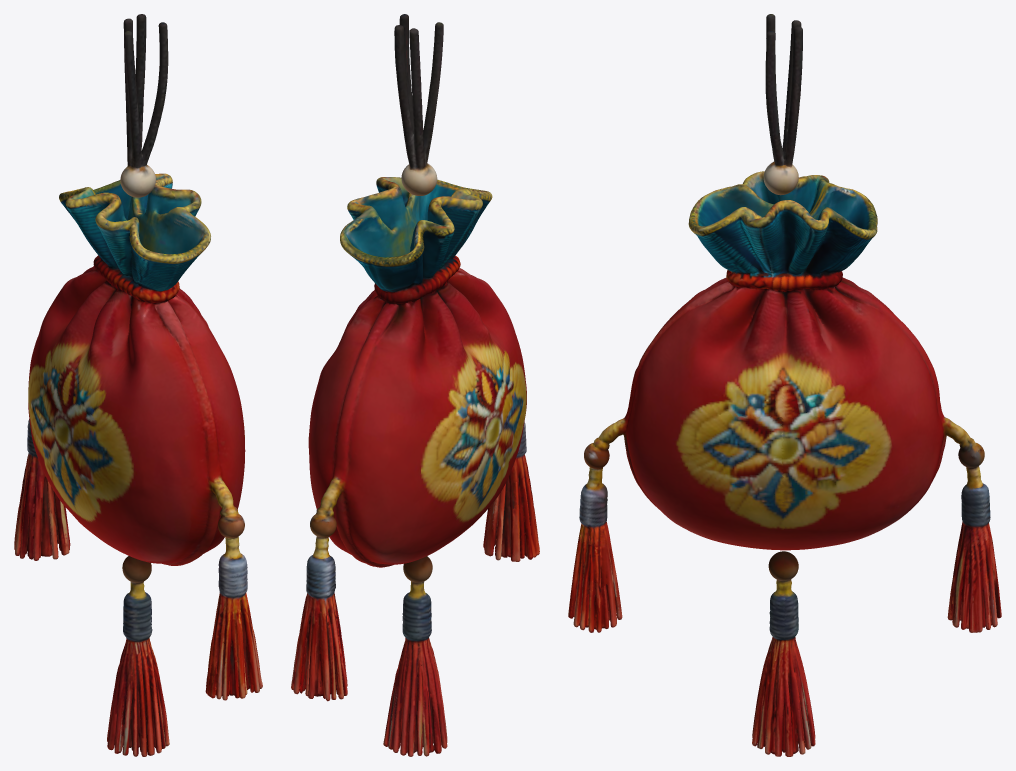
The model's file is xiangnang.glb.
The picture shows the model from 3 angles, left to right: view 1: azimuth 30°, elevation 25°; view 2: azimuth 150°, elevation 25°; view 3: azimuth 270°, elevation 25°; orthographic projection.
Visible parts, largest first — view 1: tripo_node_ef0dfd35-6bdf-4797-91fd-d58c26cbcd6d; view 2: tripo_node_ef0dfd35-6bdf-4797-91fd-d58c26cbcd6d; view 3: tripo_node_ef0dfd35-6bdf-4797-91fd-d58c26cbcd6d.
Part boxes in pixels (x1,y1,x2,y2): tripo_node_ef0dfd35-6bdf-4797-91fd-d58c26cbcd6d: [14, 14, 262, 756]; tripo_node_ef0dfd35-6bdf-4797-91fd-d58c26cbcd6d: [291, 14, 539, 756]; tripo_node_ef0dfd35-6bdf-4797-91fd-d58c26cbcd6d: [568, 14, 1001, 756].
Size of the model in its own units: 0.2188 by 1 by 0.5438.
Materials: 1 (1 with a texture image).
